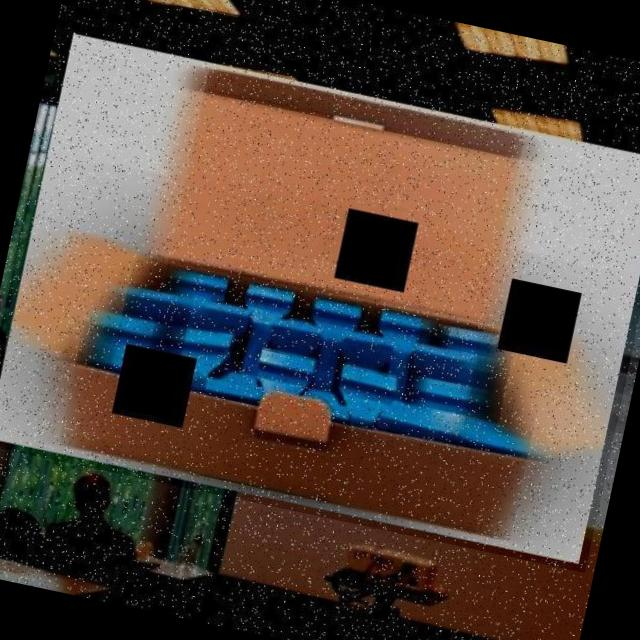box: (0, 25, 640, 572)
